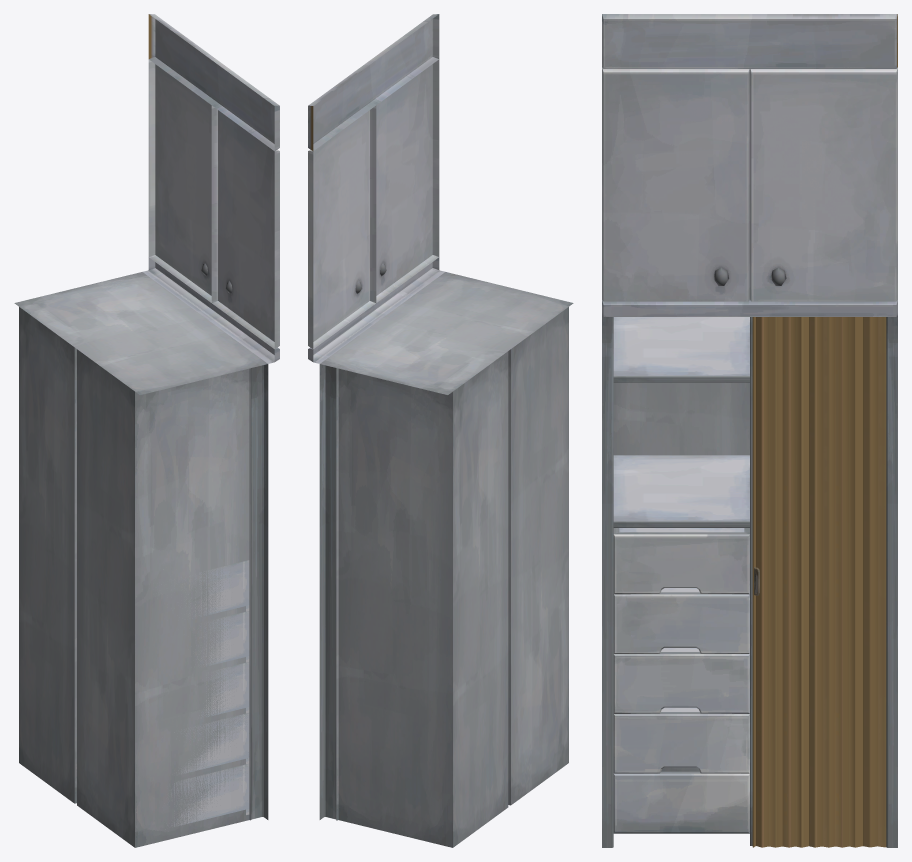
File: Ropero_H2.obj
3 renders of one model, left to right at view 1: azimuth 30°, elevation 25°; view 2: azimuth 150°, elevation 25°; view 3: azimuth 270°, elevation 25°, orthographic. The views are drawn at different scales.
Parts seen in each view (by area): view 1: Ropero_H2; view 2: Ropero_H2; view 3: Ropero_H2.
Part boxes in pixels (bbox=[...]): Ropero_H2: bbox=[14, 14, 279, 847]; Ropero_H2: bbox=[308, 14, 573, 847]; Ropero_H2: bbox=[602, 14, 897, 847].
Size of the model in its own units: 0.4566 by 2.09 by 0.6698.
Materials: 1 (1 with a texture image).
